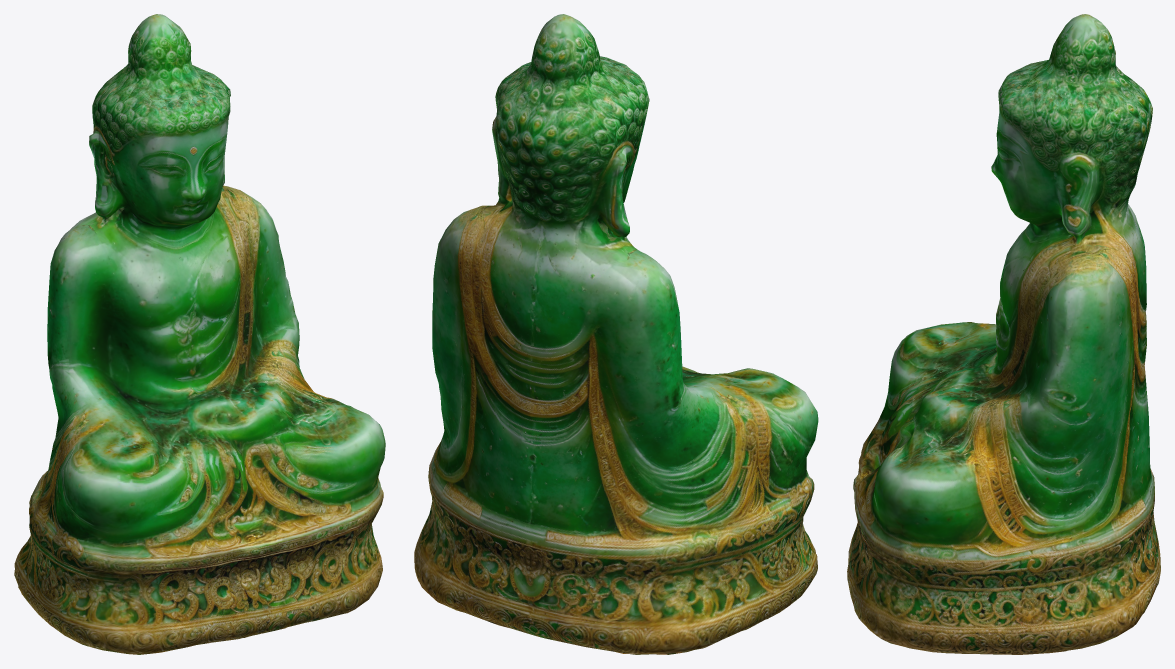
The model's file is buddha.fbx.
3 renders of one model, left to right at view 1: azimuth 30°, elevation 25°; view 2: azimuth 150°, elevation 25°; view 3: azimuth 270°, elevation 25°, orthographic. The views are drawn at different scales.
Parts seen in each view (by area): view 1: Mesh_0; view 2: Mesh_0; view 3: Mesh_0.
Part boxes in pixels (bbox=[...]): Mesh_0: bbox=[14, 14, 385, 654]; Mesh_0: bbox=[414, 14, 818, 654]; Mesh_0: bbox=[847, 14, 1160, 654].
Size of the model in its own units: 70.17 by 120 by 58.14.
Materials: 1 (1 with a texture image).
